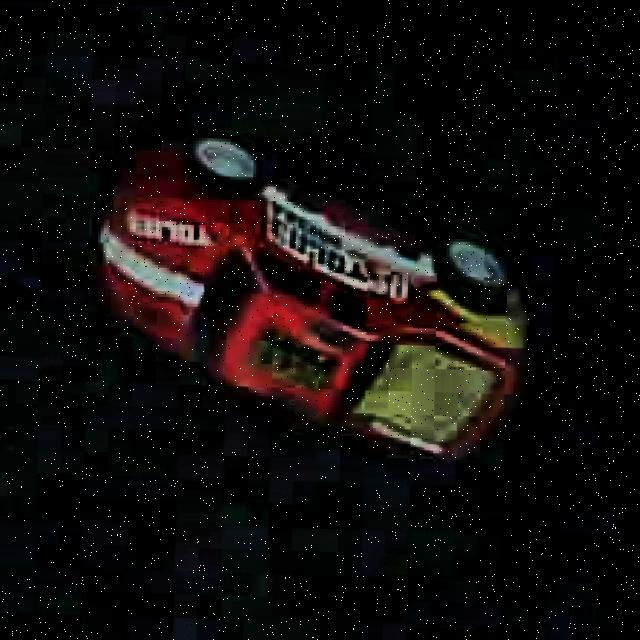car: (83, 120, 541, 467)
